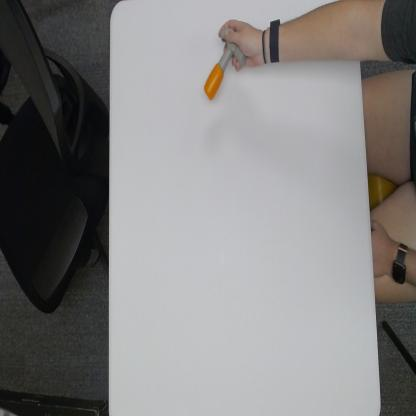Arm: (281, 1, 363, 65)
Hammer: (203, 24, 248, 102)
Hand: (218, 19, 269, 70)
